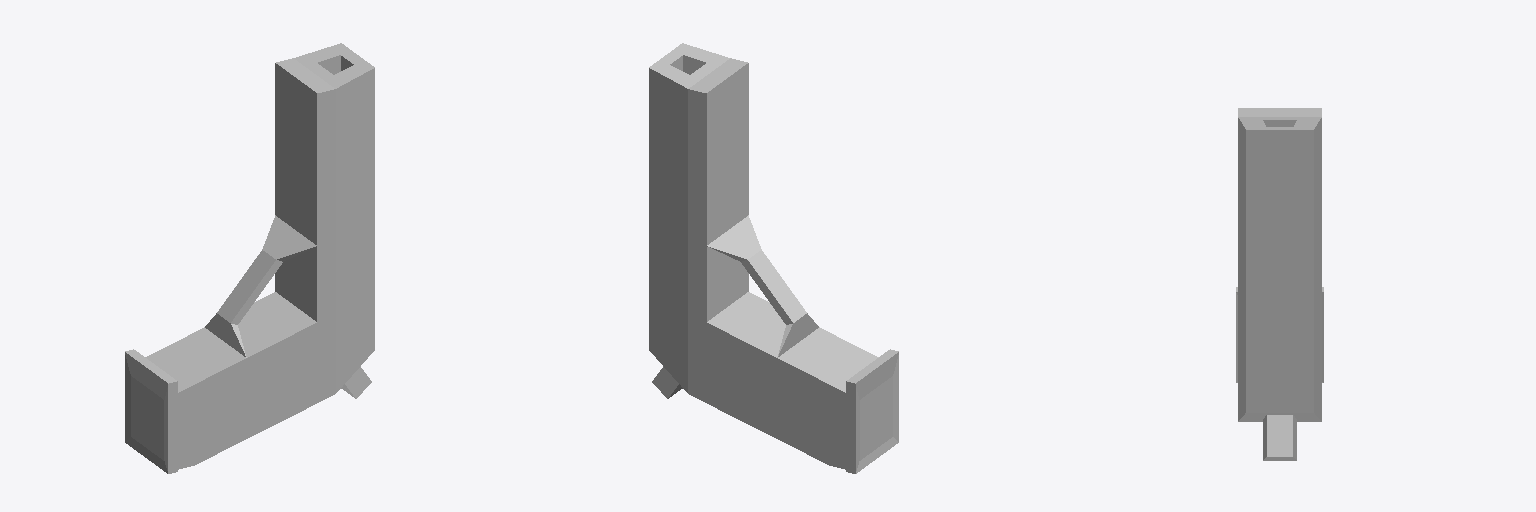
The model's file is Pistol.obj.
3 renders of one model, left to right at view 1: azimuth 30°, elevation 25°; view 2: azimuth 150°, elevation 25°; view 3: azimuth 270°, elevation 25°, orthographic.
Visible parts, largest first — view 1: Plane.001_Plane.001, Plane_Plane, Clip_Plane.002; view 2: Plane.001_Plane.001, Plane_Plane, Clip_Plane.002; view 3: Plane_Plane, Plane.001_Plane.001.
Part boxes in pixels (x1,y1,x2,y2): Plane.001_Plane.001: (145,58,335,469); Plane_Plane: (294,43,374,398); Clip_Plane.002: (125,349,177,473); Plane.001_Plane.001: (688,58,878,469); Plane_Plane: (649,43,729,398); Clip_Plane.002: (846,349,898,473); Plane_Plane: (1238,117,1321,460); Plane.001_Plane.001: (1238,108,1321,116).
Size of the model in its own units: 0.6005 by 0.921 by 0.208.